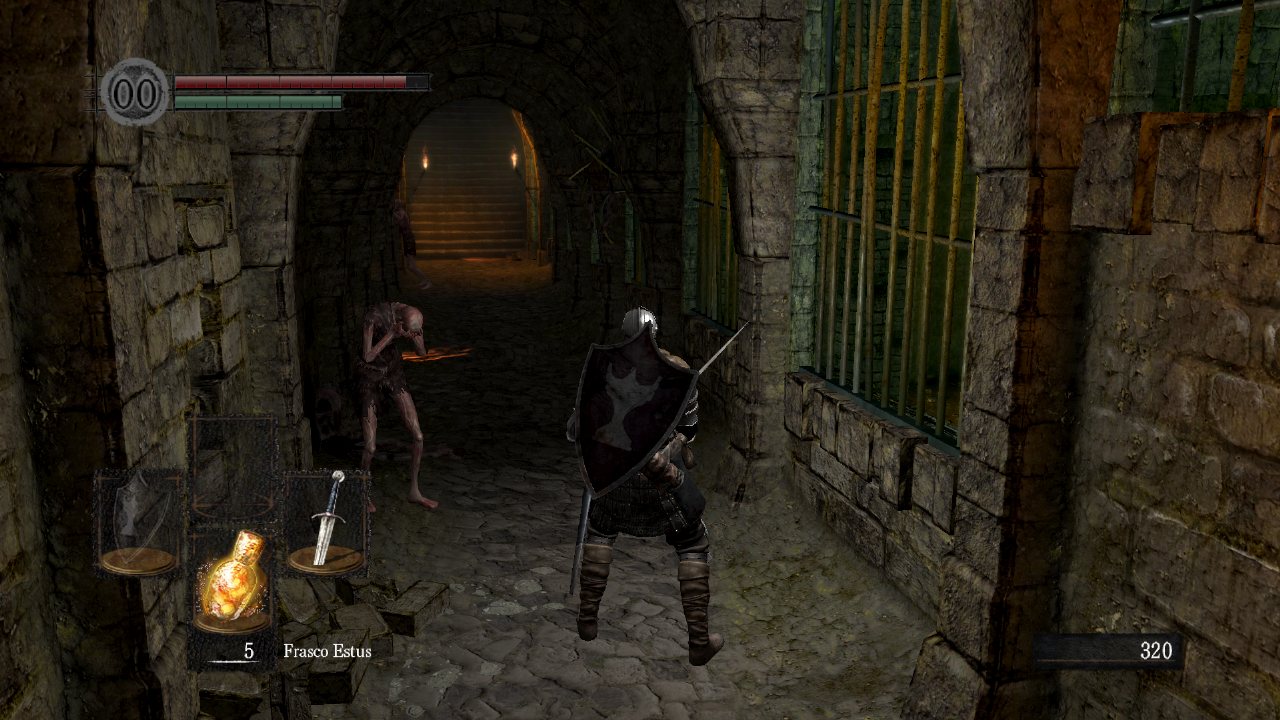hollow: (359, 301, 439, 513)
player: (565, 306, 749, 666)
